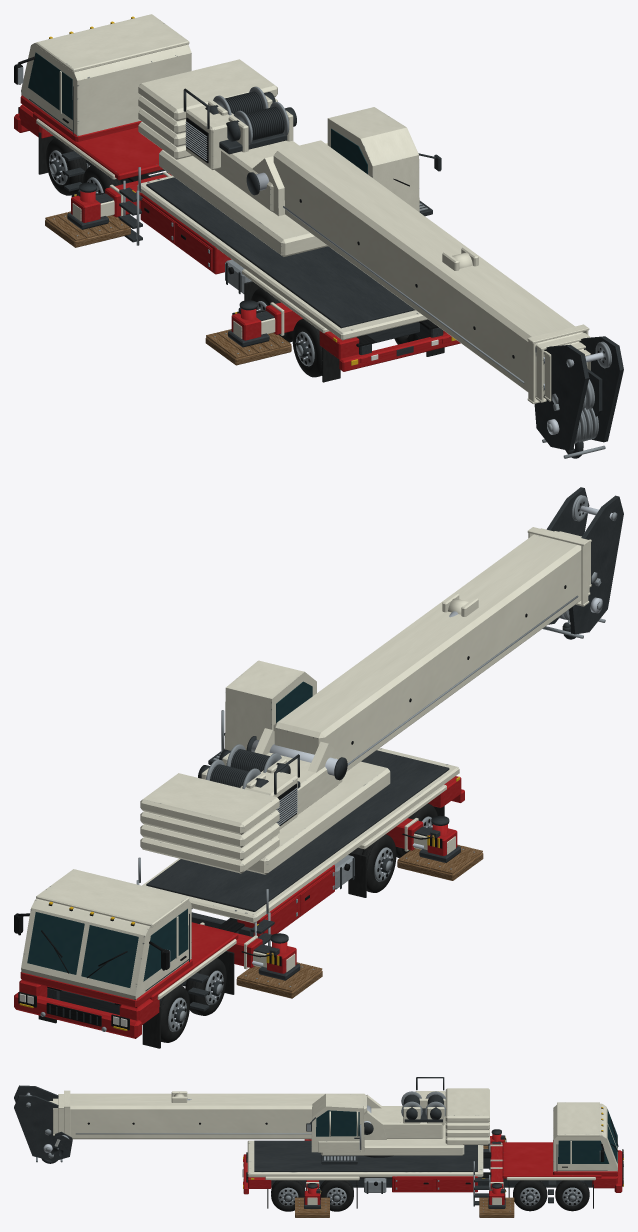
The model's file is guindaste-80t.glb.
The picture shows the model from 3 angles, top to bottom: view 1: azimuth 30°, elevation 25°; view 2: azimuth 150°, elevation 25°; view 3: azimuth 270°, elevation 25°; orthographic projection. The views are drawn at different scales.
Visible parts, largest first — view 1: chassi, lanca-secao-01, superestrutura, lanca-cabeca, crane-outrigger-fr-sapata, crane-outrigger-rr-sapata, crane-outrigger-fr-viga, crane-outrigger-rr-viga, moitao, lanca-secao-02; view 2: chassi, superestrutura, lanca-secao-01, lanca-cabeca, crane-outrigger-fr-sapata, crane-outrigger-rr-sapata, crane-outrigger-fr-viga, crane-outrigger-rr-viga; view 3: chassi, lanca-secao-01, superestrutura, lanca-cabeca, crane-outrigger-rl-sapata, crane-outrigger-fl-sapata, crane-outrigger-fl-viga, crane-outrigger-rl-viga, lanca-secao-02.
Part boxes in pixels (x1,y1,x2,y2): chassi: [14, 14, 460, 382]; lanca-secao-01: [273, 140, 589, 403]; superestrutura: [138, 59, 441, 256]; lanca-cabeca: [534, 336, 623, 458]; crane-outrigger-fr-sapata: [205, 329, 291, 365]; crane-outrigger-rr-sapata: [45, 211, 130, 247]; crane-outrigger-fr-viga: [231, 300, 275, 340]; crane-outrigger-rr-viga: [71, 182, 114, 222]; moitao: [552, 369, 602, 458]; lanca-secao-02: [536, 333, 590, 402]; chassi: [14, 748, 464, 1048]; superestrutura: [140, 660, 390, 874]; lanca-secao-01: [273, 527, 589, 771]; lanca-cabeca: [542, 487, 623, 638]; crane-outrigger-fr-sapata: [397, 844, 483, 880]; crane-outrigger-rr-sapata: [236, 962, 322, 998]; crane-outrigger-fr-viga: [402, 815, 457, 856]; crane-outrigger-rr-viga: [241, 933, 296, 973]; chassi: [242, 1102, 623, 1211]; lanca-secao-01: [64, 1090, 366, 1139]; superestrutura: [306, 1077, 489, 1164]; lanca-cabeca: [14, 1085, 72, 1162]; crane-outrigger-rl-sapata: [479, 1197, 514, 1217]; crane-outrigger-fl-sapata: [295, 1197, 329, 1217]; crane-outrigger-fl-viga: [304, 1183, 321, 1204]; crane-outrigger-rl-viga: [489, 1183, 506, 1204]; lanca-secao-02: [58, 1094, 63, 1132].
Bounding box in the file's own units: 6.19 × 4.57 × 22.96.
2 materials, 1 textured.
